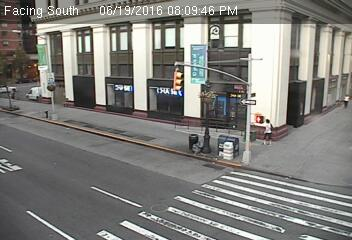neg: (153, 54, 195, 110), (30, 98, 63, 141), (206, 132, 237, 173)
pos: (254, 112, 282, 150), (336, 90, 351, 116)
